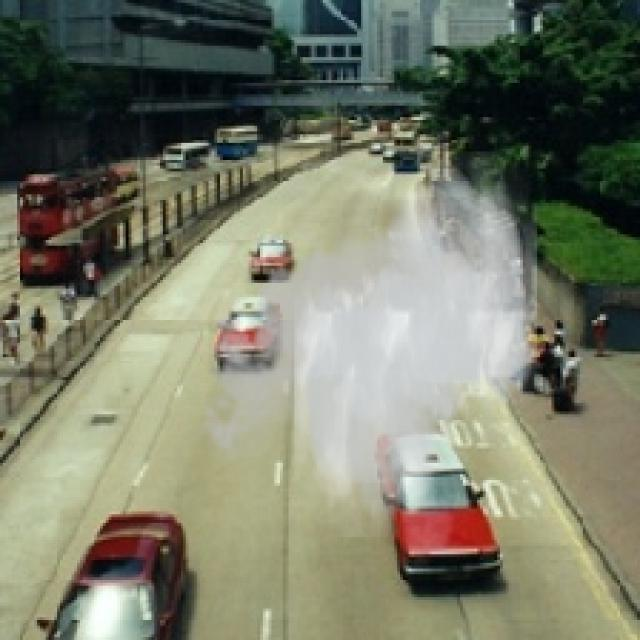Smoke: (192, 152, 537, 537)
